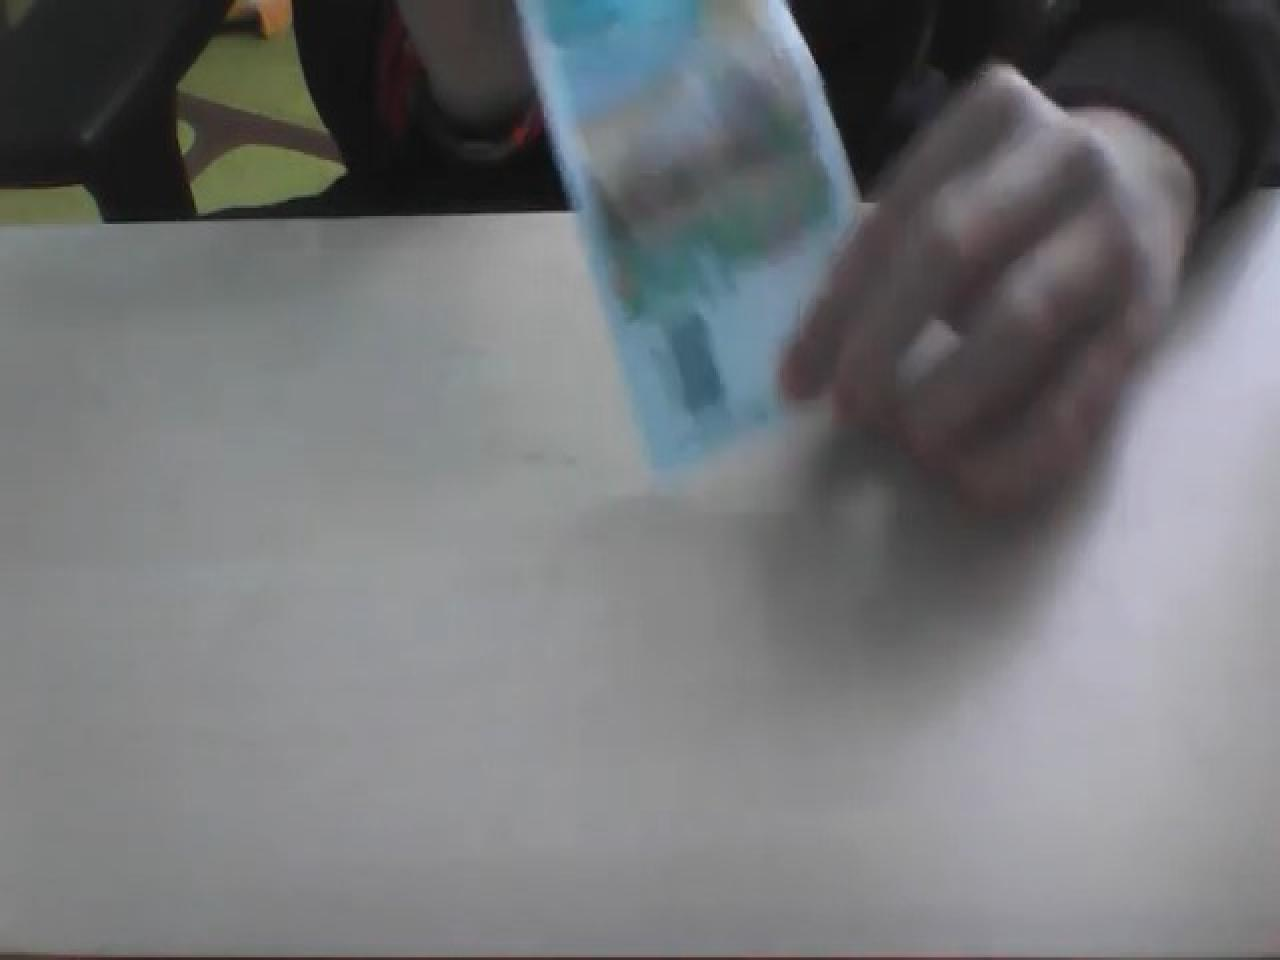100leva: (514, 0, 870, 480)
